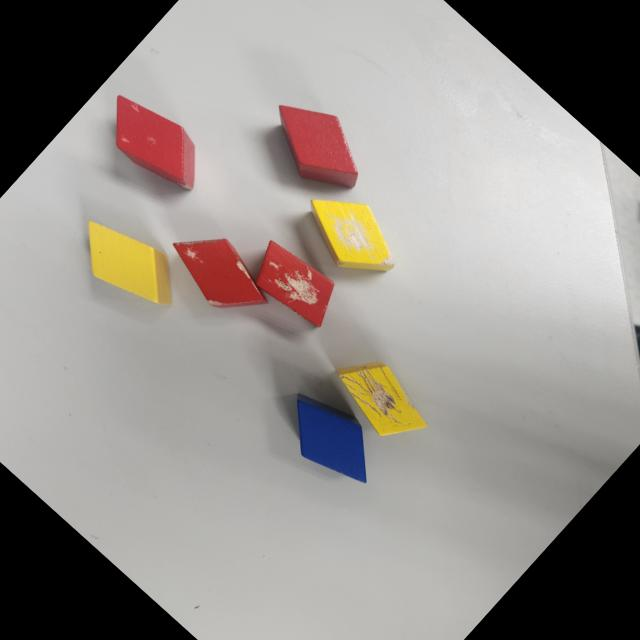blue: (267, 377, 394, 500)
broken: (90, 80, 218, 204), (289, 176, 412, 294), (159, 215, 281, 332), (320, 341, 437, 454), (240, 231, 347, 335)
red: (251, 82, 381, 208)
yellow: (61, 200, 192, 328)
